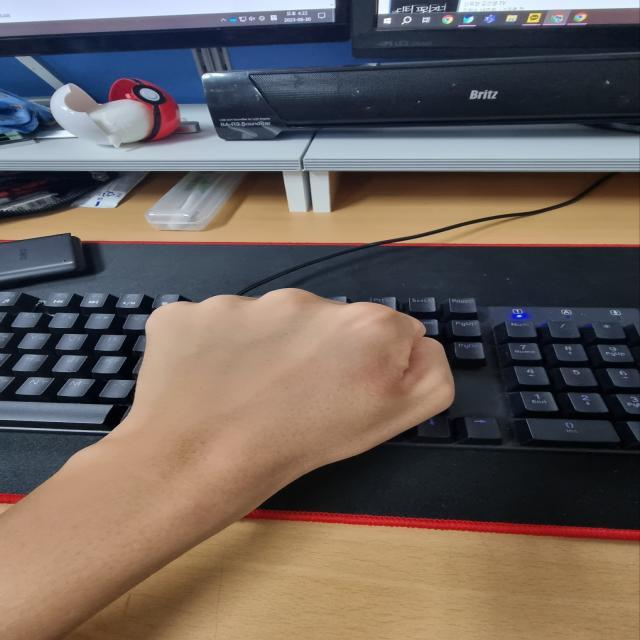keyboard-with-hands: (0, 288, 640, 454)
